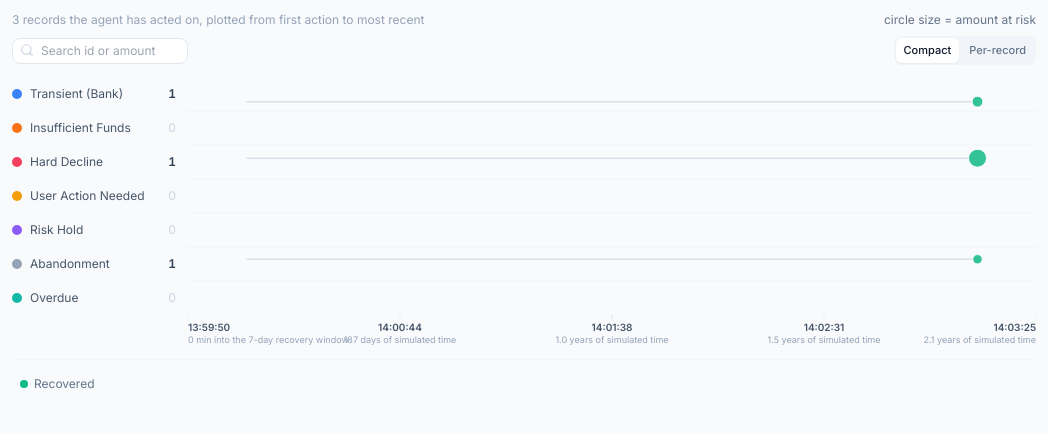
it: HistoryTimeline: search (Unit AP) › matches on a record id prefix and narrows the view to it
In the field with test id "timeline-search-input": (100, 51) [12, 38, 188, 64], type "f43f"
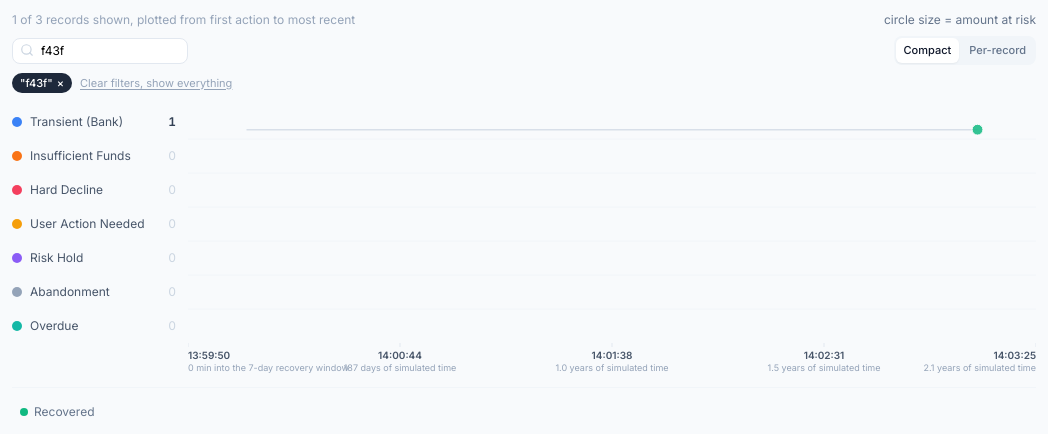
Result: the button with test id "active-filter-search" shows "f43f" at [12, 72, 72, 93]
